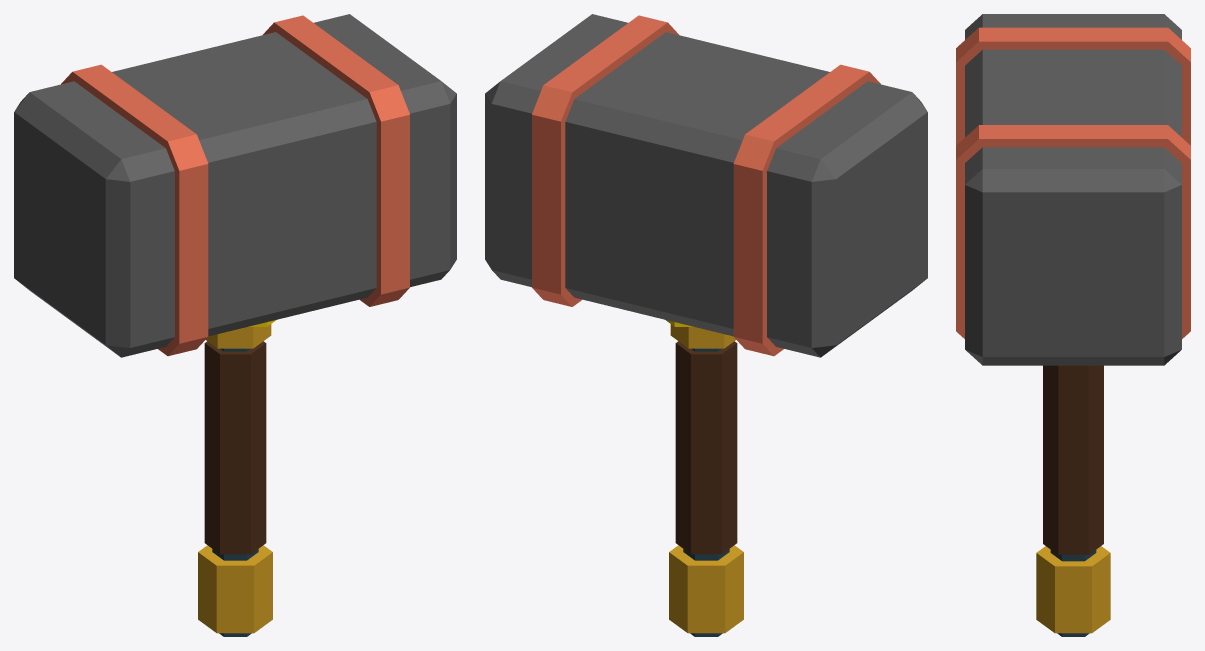
Rendered from Hammer.fbx.
The picture shows the model from 3 angles, left to right: view 1: azimuth 30°, elevation 25°; view 2: azimuth 150°, elevation 25°; view 3: azimuth 270°, elevation 25°; orthographic projection.
Parts seen in each view (by area): view 1: Hammer; view 2: Hammer; view 3: Hammer.
Part boxes in pixels (x1,y1,x2,y2): Hammer: (14, 14, 456, 636); Hammer: (485, 14, 927, 636); Hammer: (956, 14, 1190, 636).
Bounding box in the file's own units: 52.44 × 78.52 × 30.67.
